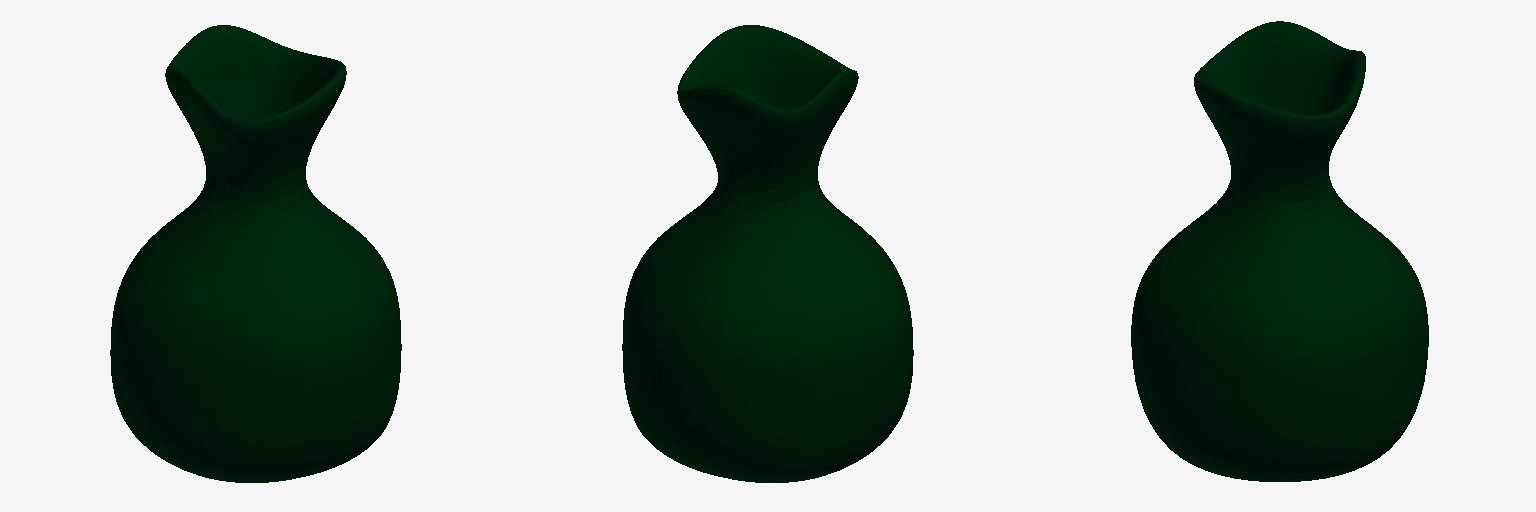
File: pouch_timun.obj
3 renders of one model, left to right at view 1: azimuth 30°, elevation 25°; view 2: azimuth 150°, elevation 25°; view 3: azimuth 270°, elevation 25°, orthographic.
Visible parts, largest first — view 1: Cube.001; view 2: Cube.001; view 3: Cube.001.
Boxes of the visible parts, x1=… form: Cube.001: x1=110, y1=25, x2=401, y2=482; Cube.001: x1=622, y1=25, x2=913, y2=482; Cube.001: x1=1131, y1=21, x2=1428, y2=481.
Size of the model in its own units: 0.2653 by 0.3925 by 0.2653.